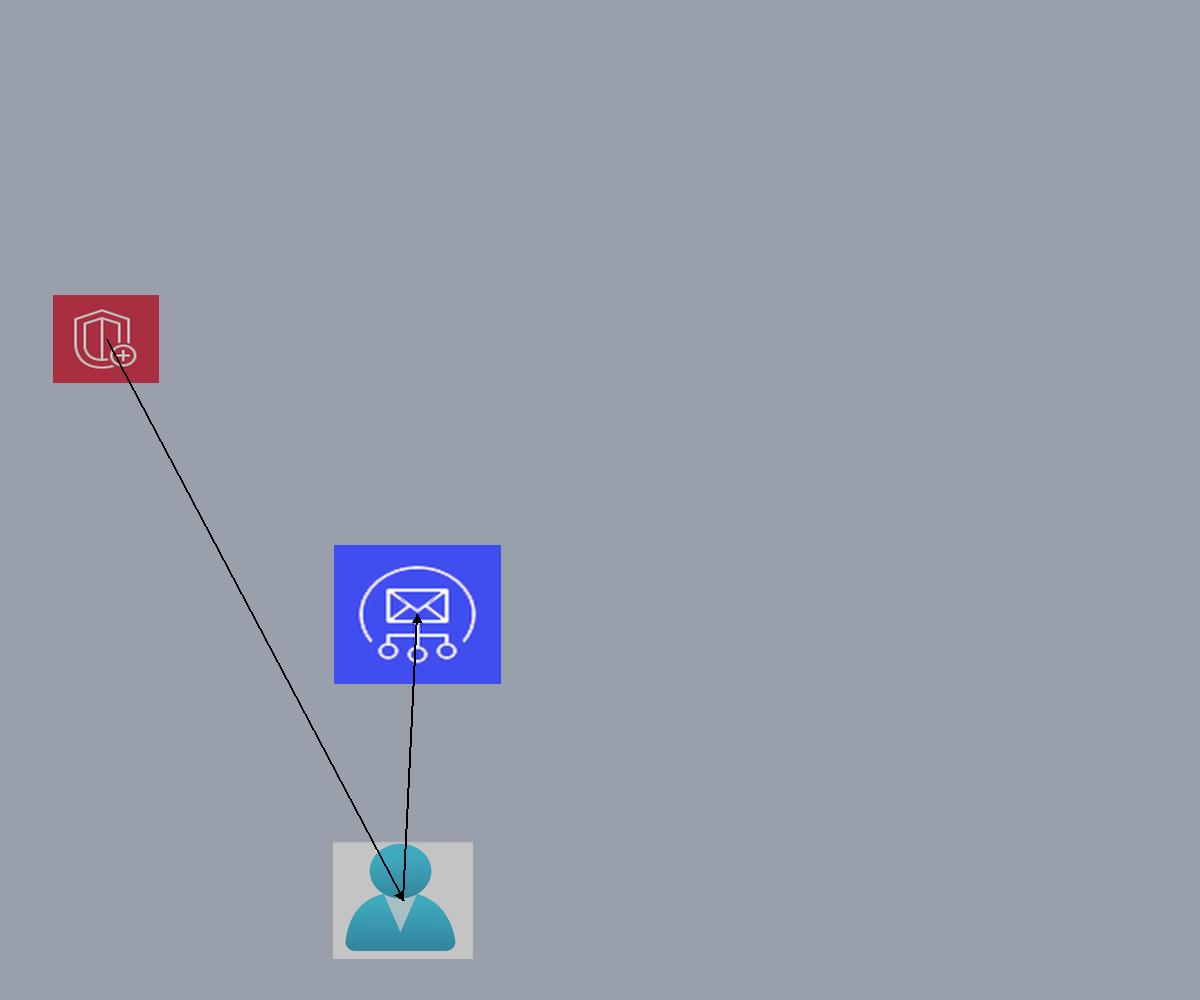AWS-Shield: (53, 295, 159, 383)
AWS-Simple-Email-Service: (334, 545, 501, 684)
Azure_users: (333, 842, 473, 959)
